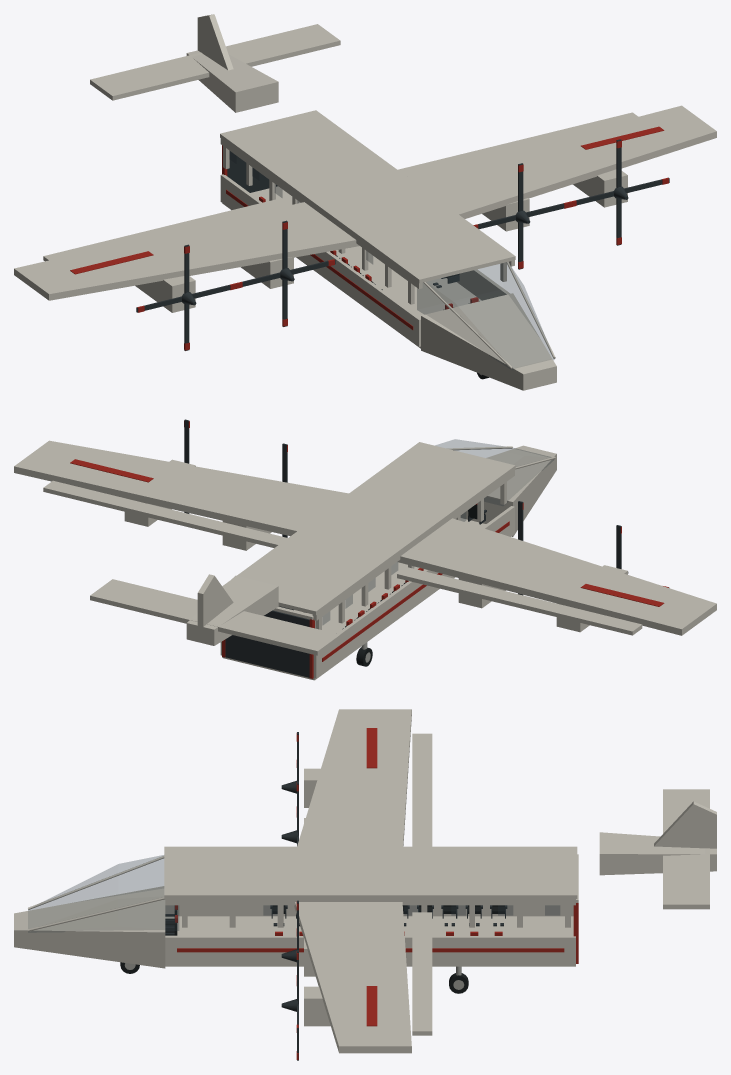
The picture shows the model from 3 angles, top to bottom: view 1: azimuth 30°, elevation 25°; view 2: azimuth 150°, elevation 25°; view 3: azimuth 270°, elevation 25°; orthographic projection. The views are drawn at different scales.
Visible parts, largest first — view 1: troop-plane-painted, transport-roof-painted, troop-plane-glazing, flap-1-painted, flap--1-painted, propeller--1-6-painted, propeller-1-11-painted, propeller--1-11-painted, propeller-1-6-painted, breakaway-1-painted, transport-ramp-painted, breakaway-0-painted (+1 smaller); view 2: troop-plane-painted, transport-roof-painted, flap--1-painted, flap-1-painted, troop-plane-glazing, transport-ramp-painted, crew-seating-batch-painted; view 3: troop-plane-painted, transport-roof-painted, troop-plane-glazing, flap-1-painted, flap--1-painted, crew-seating-batch-painted.
Boxes of the visible parts, <box> form: troop-plane-painted: <box>14,14,716,390</box>; transport-roof-painted: <box>220,110,515,304</box>; troop-plane-glazing: <box>229,151,554,369</box>; flap-1-painted: <box>398,112,638,176</box>; flap--1-painted: <box>43,198,287,261</box>; propeller--1-6-painted: <box>235,220,335,326</box>; propeller-1-11-painted: <box>570,139,669,245</box>; propeller--1-11-painted: <box>136,244,236,350</box>; propeller-1-6-painted: <box>473,163,570,269</box>; breakaway-1-painted: <box>135,276,195,312</box>; transport-ramp-painted: <box>227,151,277,192</box>; breakaway-0-painted: <box>240,256,293,288</box>; troop-plane-painted: <box>14,440,716,680</box>; transport-roof-painted: <box>222,442,515,629</box>; flap--1-painted: <box>397,567,642,635</box>; flap-1-painted: <box>43,480,287,547</box>; troop-plane-glazing: <box>322,439,554,624</box>; transport-ramp-painted: <box>225,610,309,677</box>; crew-seating-batch-painted: <box>278,503,486,629</box>; troop-plane-painted: <box>14,709,716,1053</box>; transport-roof-painted: <box>164,846,577,927</box>; troop-plane-glazing: <box>28,855,559,932</box>; flap-1-painted: <box>412,912,432,1035</box>; flap--1-painted: <box>412,733,432,846</box>; crew-seating-batch-painted: <box>165,905,507,935</box>.
Bounding box in the file's own units: 179 × 42.02 × 158.
